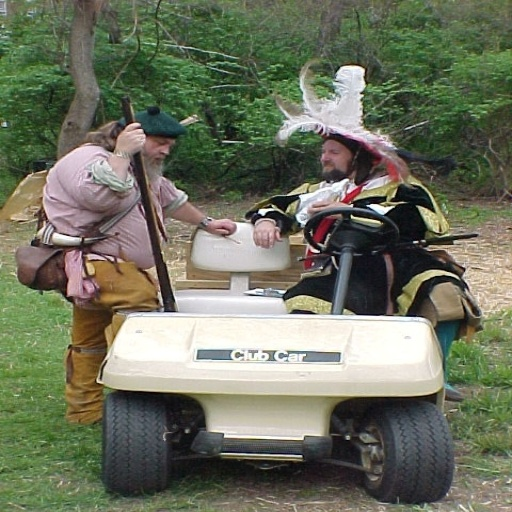hand: (96, 118, 147, 160), (249, 217, 284, 249), (306, 200, 348, 220), (208, 216, 236, 236)
